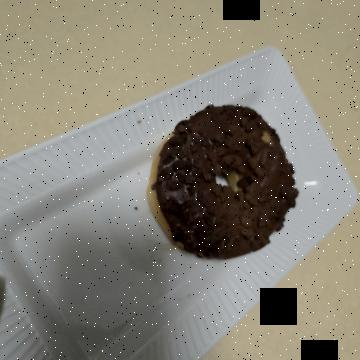doughnut: (102, 50, 281, 223)
